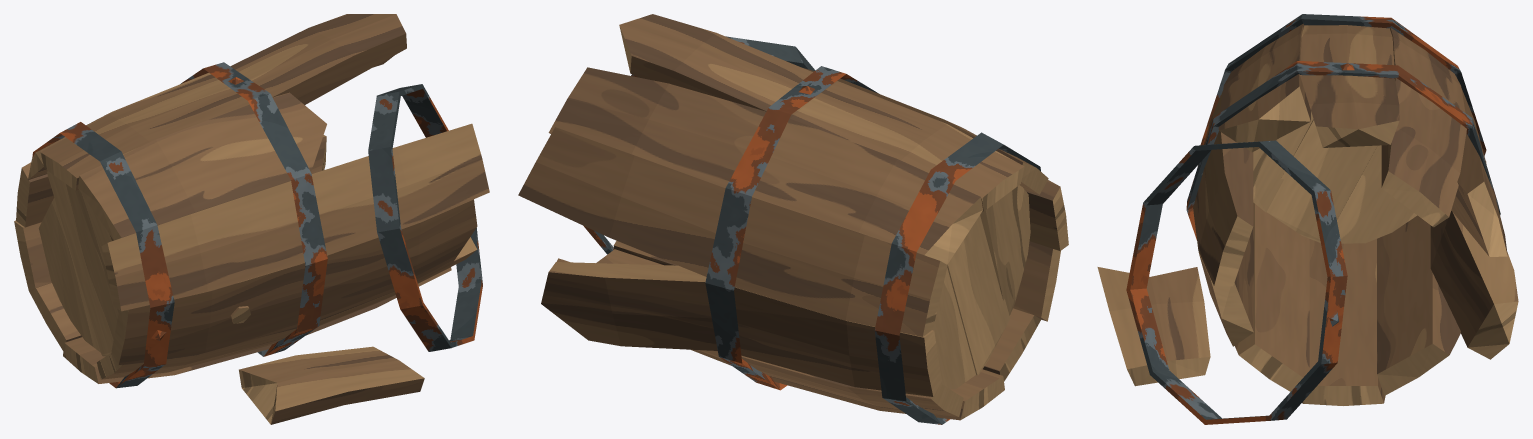
The model's file is SM_BrokenBarrel.fbx.
3 views of the same model, side by side, from view 1: azimuth 30°, elevation 25°; view 2: azimuth 150°, elevation 25°; view 3: azimuth 270°, elevation 25° (orthographic). The views are drawn at different scales.
Visible parts, largest first — view 1: SM_BrokenBarrel; view 2: SM_BrokenBarrel; view 3: SM_BrokenBarrel.
Part boxes in pixels (x1,y1,x2,y2): SM_BrokenBarrel: (14,14,489,424); SM_BrokenBarrel: (518,14,1068,424); SM_BrokenBarrel: (1097,14,1518,424).
Bounding box in the file's own units: 0.9699 × 0.6512 × 0.8205.
